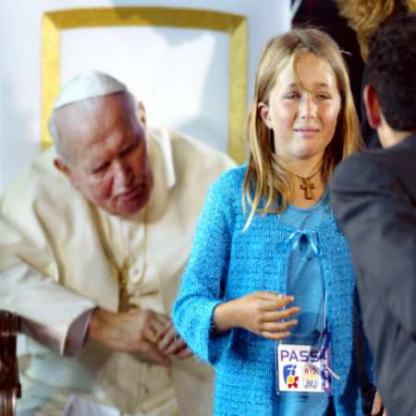face: (62, 67, 152, 223), (267, 30, 342, 160)
